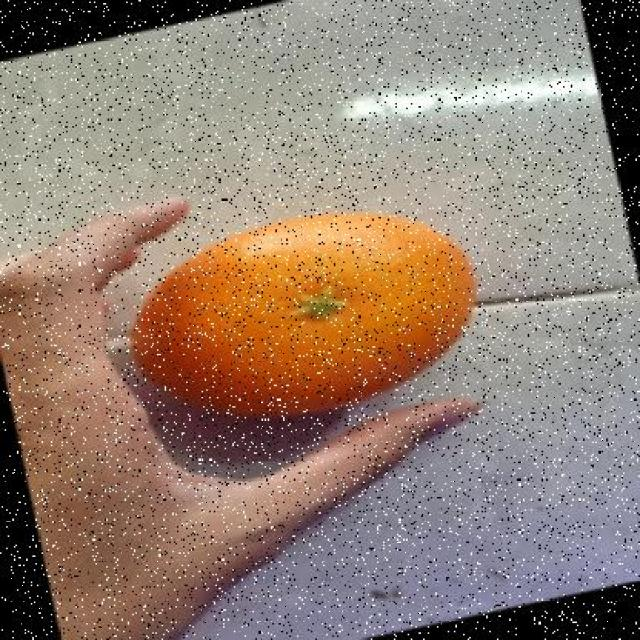Orange: (128, 209, 477, 420)
